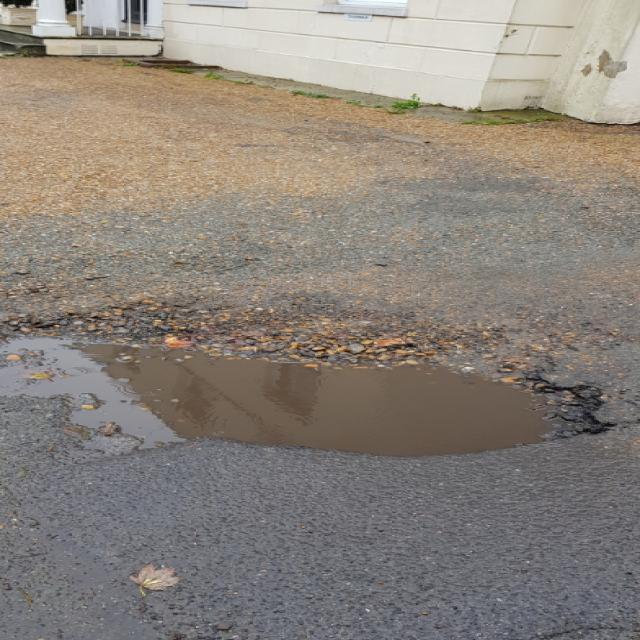Pothole: (1, 311, 631, 459)
